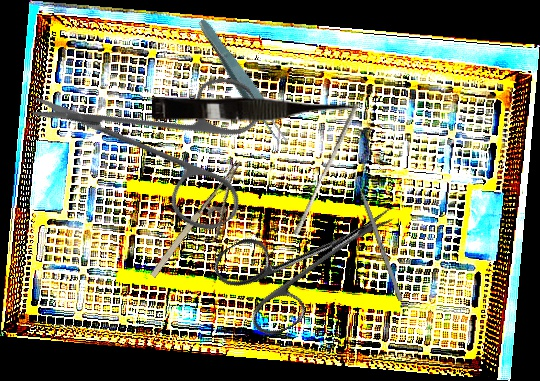Iris Scissors: (26, 3, 302, 279), (208, 167, 417, 347)
Micro Scissor: (152, 97, 358, 124)
Needle Holder: (146, 159, 264, 293)
Pusher: (292, 101, 360, 238), (349, 165, 404, 302)
Tissue Forceps: (192, 15, 293, 150)
